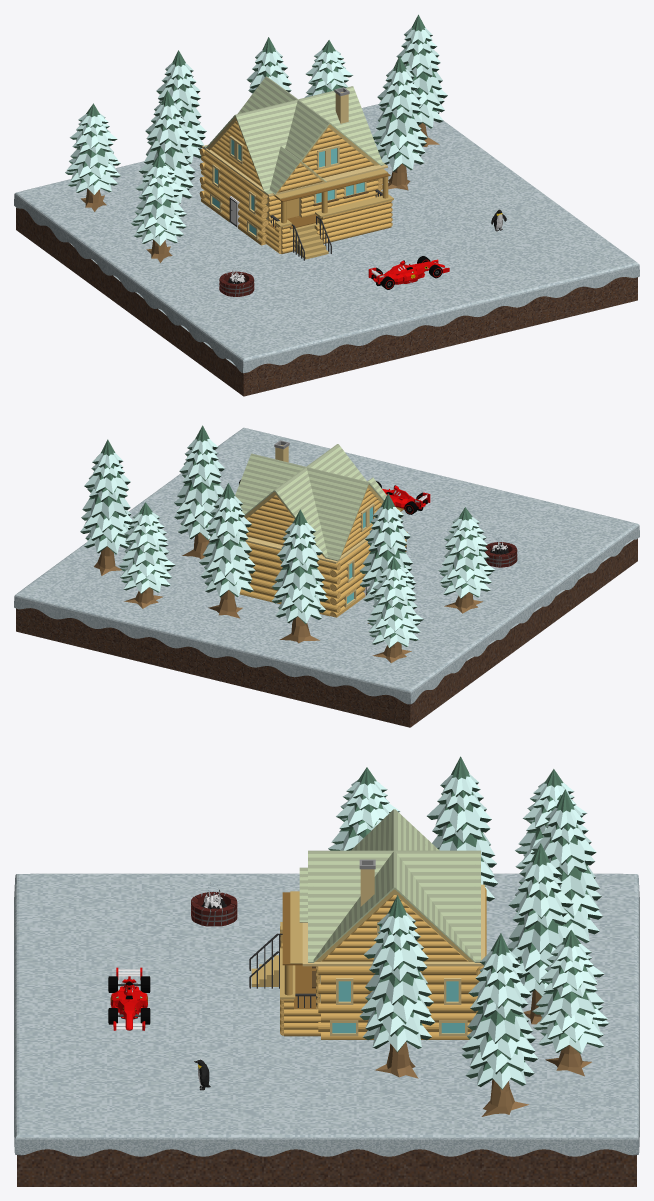
The picture shows the model from 3 angles, top to bottom: view 1: azimuth 30°, elevation 25°; view 2: azimuth 150°, elevation 25°; view 3: azimuth 270°, elevation 25°; orthographic projection. The views are drawn at different scales.
Visible parts, largest first — view 1: Cube.003, Cube.1516, VEHICLES_FORMULA_1, OBJRANDOM_CAMPFIRE; view 2: Cube.003, Cube.1516, VEHICLES_FORMULA_1, OBJRANDOM_CAMPFIRE; view 3: Cube.003, Cube.1516, VEHICLES_FORMULA_1, OBJRANDOM_CAMPFIRE.
Boxes of the visible parts, x1=… form: Cube.003: x1=14, y1=14, x2=639, y2=396; Cube.1516: x1=199, y1=76, x2=393, y2=260; VEHICLES_FORMULA_1: x1=368, y1=256, x2=449, y2=289; OBJRANDOM_CAMPFIRE: x1=219, y1=270, x2=254, y2=296; Cube.003: x1=14, y1=425, x2=639, y2=727; Cube.1516: x1=235, y1=440, x2=407, y2=617; VEHICLES_FORMULA_1: x1=376, y1=481, x2=430, y2=514; OBJRANDOM_CAMPFIRE: x1=485, y1=541, x2=517, y2=567; Cube.003: x1=14, y1=756, x2=639, y2=1186; Cube.1516: x1=249, y1=809, x2=486, y2=1039; VEHICLES_FORMULA_1: x1=108, y1=967, x2=150, y2=1030; OBJRANDOM_CAMPFIRE: x1=191, y1=889, x2=237, y2=926.
Size of the model in its own units: 4040 by 1700 by 4040.
Materials: 36 (4 with a texture image).
